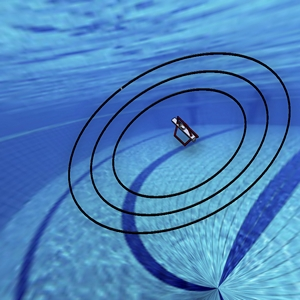circle: (61, 44, 300, 251)
submarine: (164, 108, 205, 153)
